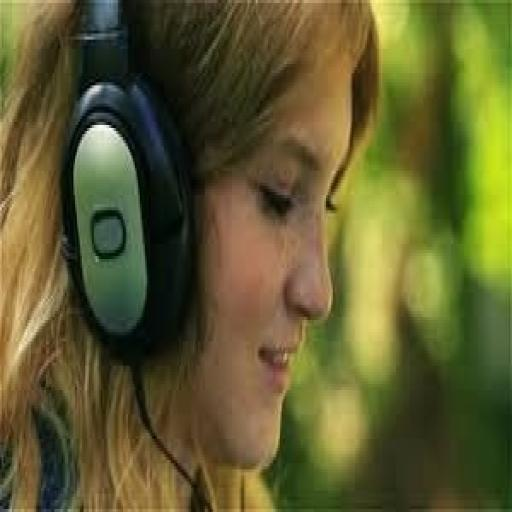listening_to_music: (0, 0, 382, 509)
